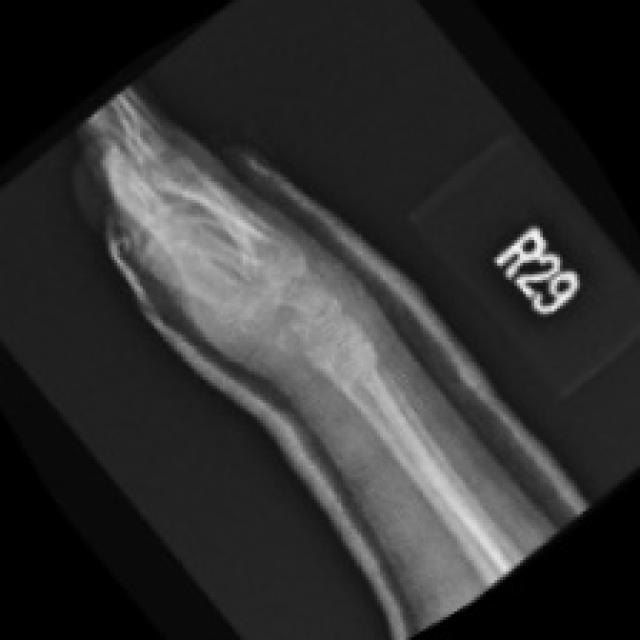fracture: (234, 266, 421, 425)
